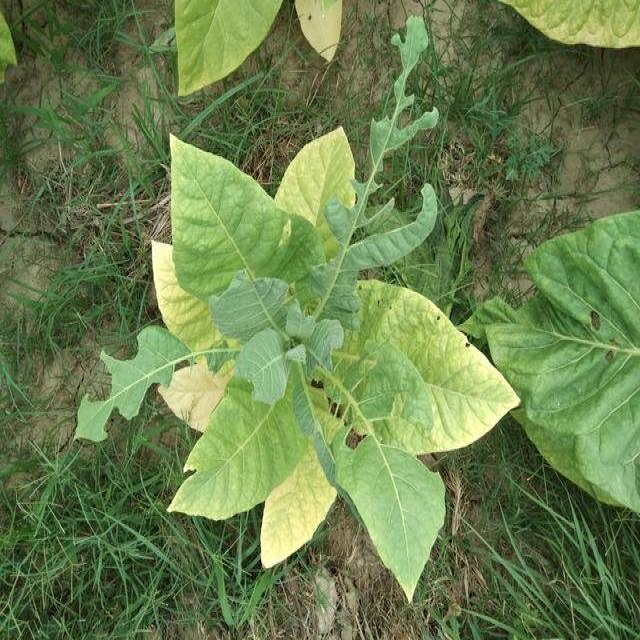crop: (139, 131, 526, 604)
